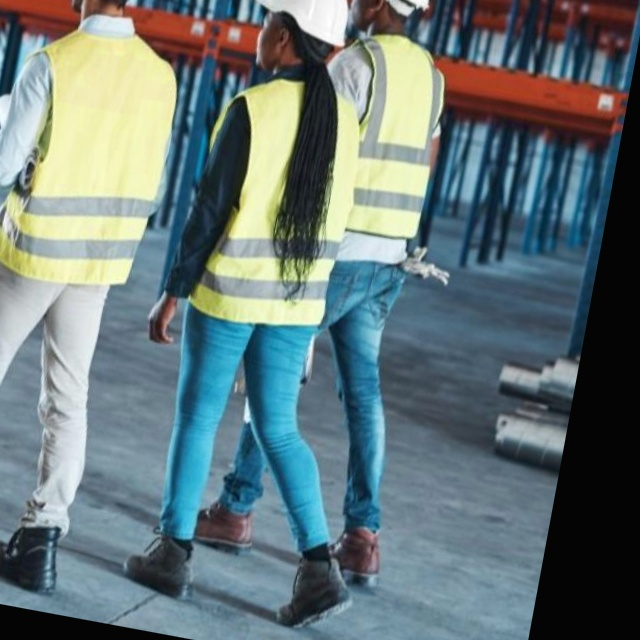Con_Casco: (241, 0, 358, 82), (345, 0, 441, 33), (63, 0, 165, 24)
Con_Chaleco: (175, 73, 370, 343), (0, 15, 185, 296), (314, 30, 457, 246)
